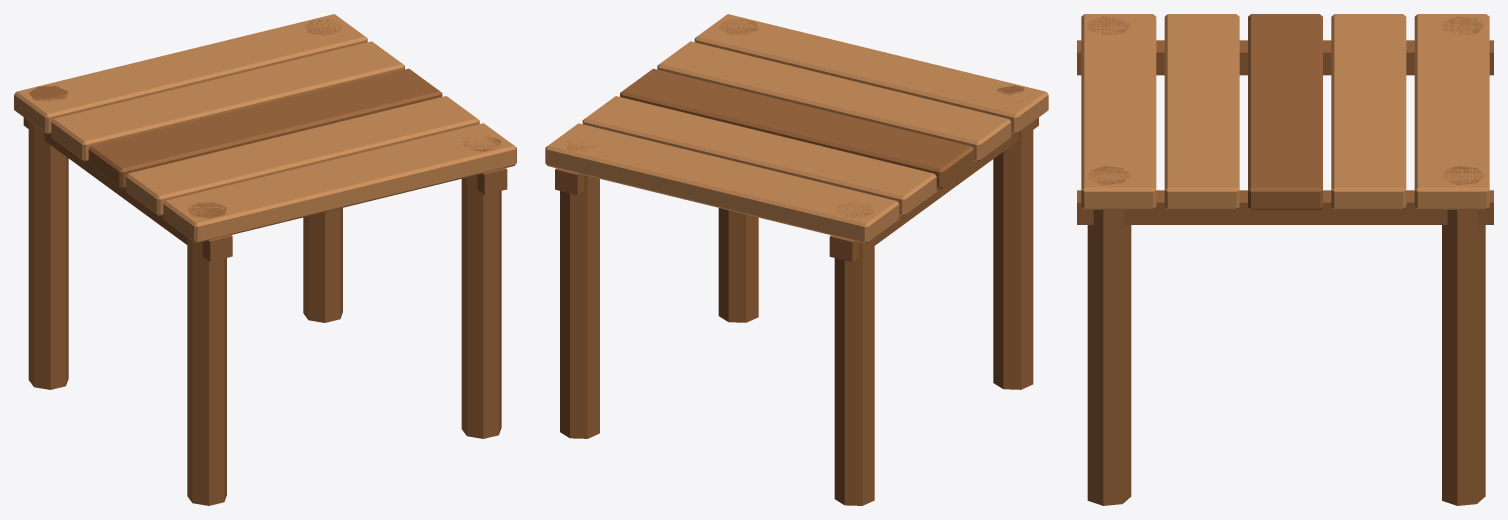
File: dock_segment.glb
3 renders of one model, left to right at view 1: azimuth 30°, elevation 25°; view 2: azimuth 150°, elevation 25°; view 3: azimuth 270°, elevation 25°, orthographic. The views are drawn at different scales.
Visible parts, largest first — view 1: dock_segment; view 2: dock_segment; view 3: dock_segment.
Part boxes in pixels (x1,y1,x2,y2): dock_segment: (14, 14, 516, 505); dock_segment: (545, 14, 1048, 505); dock_segment: (1077, 14, 1493, 505).
Size of the model in its own units: 2 by 1.7 by 2.
